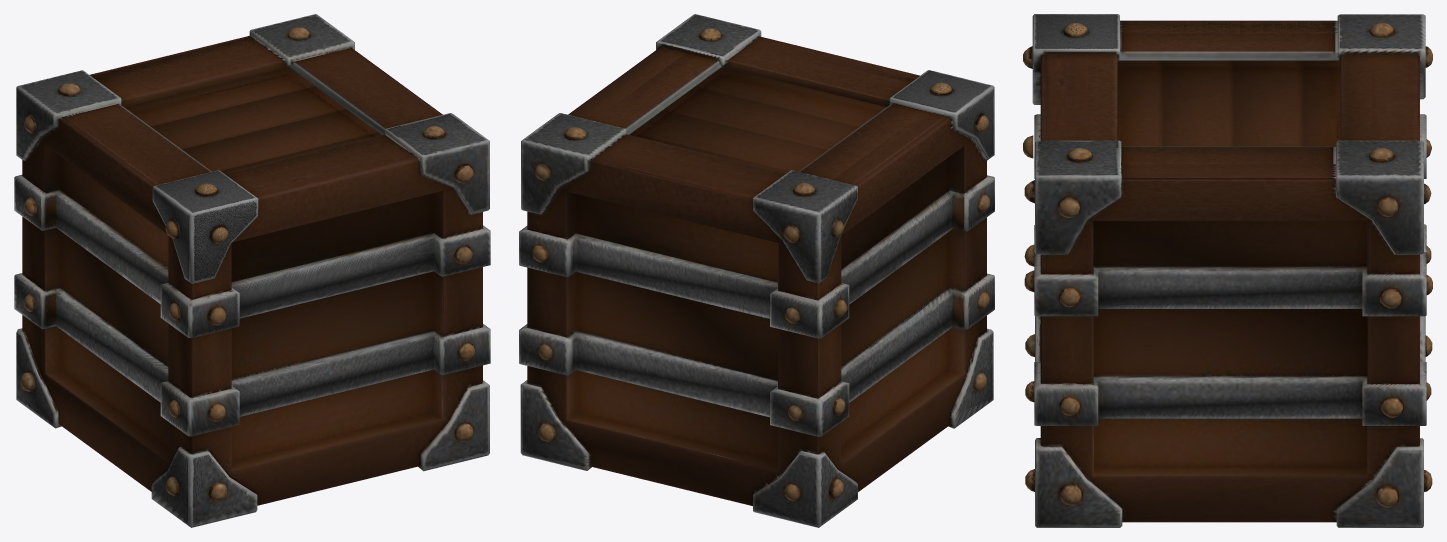
Rendered from tripo_convert_d4f6e0ea-c46a-419b-a088-1f434c345be8.fbx.
3 renders of one model, left to right at view 1: azimuth 30°, elevation 25°; view 2: azimuth 150°, elevation 25°; view 3: azimuth 270°, elevation 25°, orthographic. The views are drawn at different scales.
Visible parts, largest first — view 1: tripo_node_d4f6e0ea; view 2: tripo_node_d4f6e0ea; view 3: tripo_node_d4f6e0ea.
Part boxes in pixels (x1,y1,x2,y2): tripo_node_d4f6e0ea: (14, 14, 490, 527); tripo_node_d4f6e0ea: (519, 14, 994, 527); tripo_node_d4f6e0ea: (1023, 14, 1432, 527).
Size of the model in its own units: 0.998 by 0.9668 by 0.998.
1 material, 1 textured.
